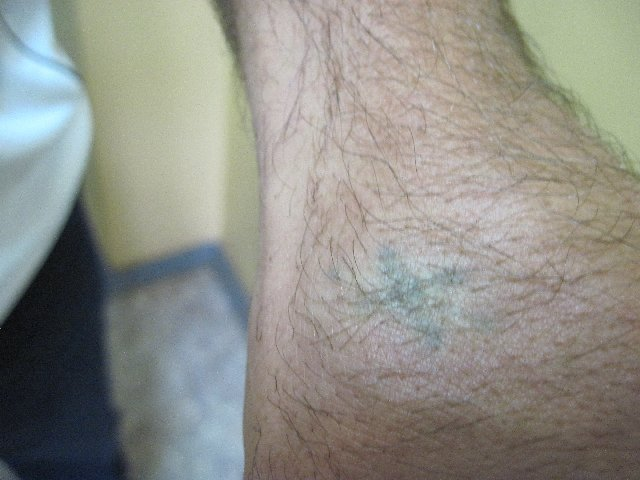tatu9_krest: (328, 228, 505, 349)
